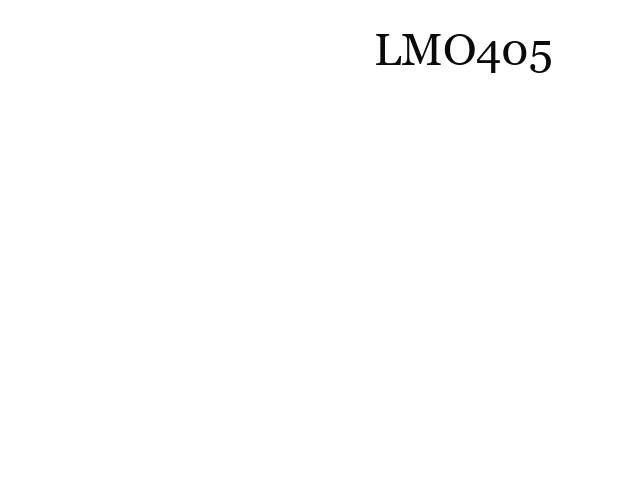OCR_AREA: (370, 30, 557, 77)
